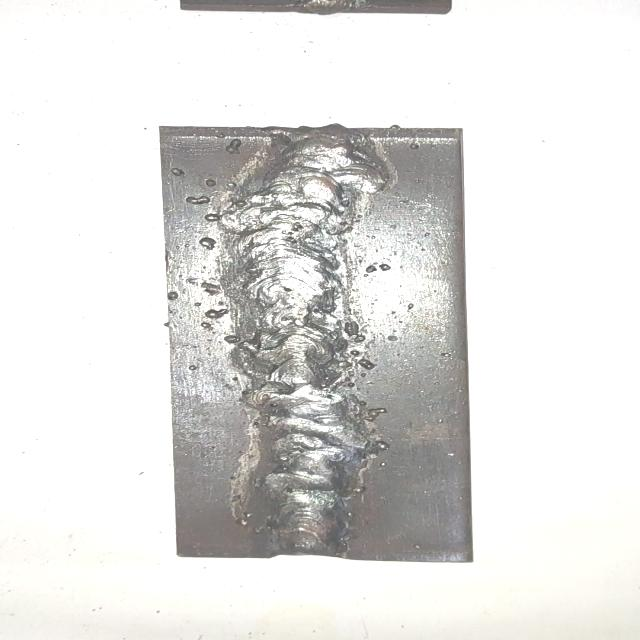Bad Weld: (230, 134, 389, 553)
Defect: (220, 130, 398, 464)
